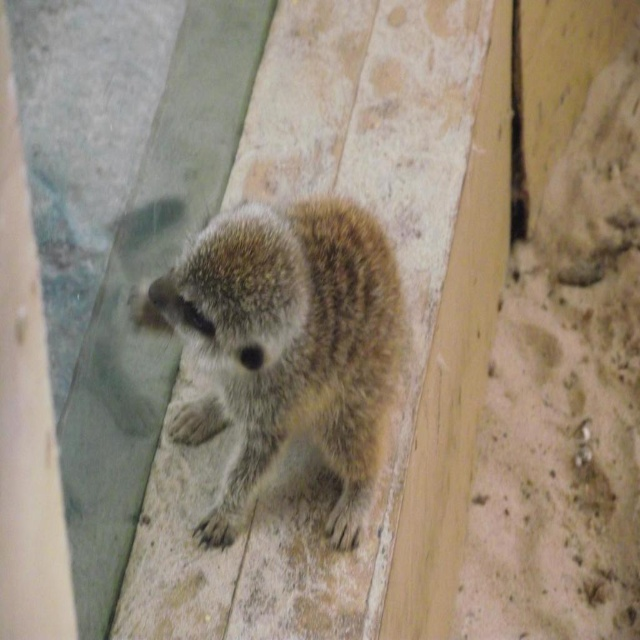Raccoon: (126, 180, 407, 554)
